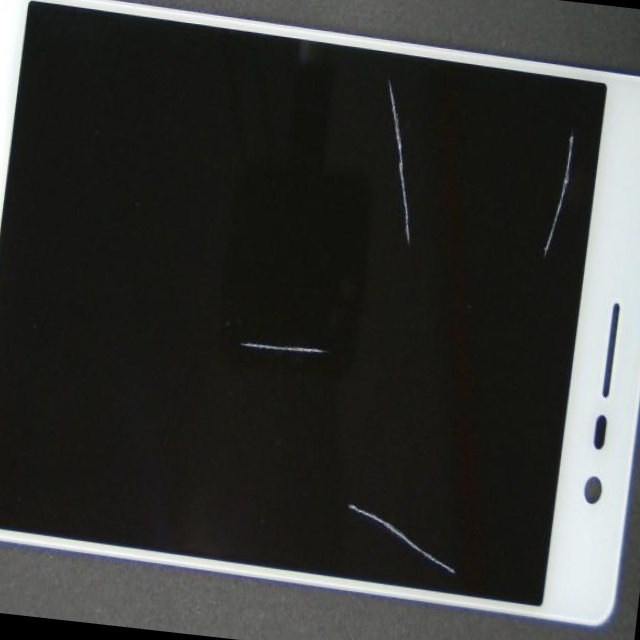scratch: (117, 84, 640, 410), (152, 151, 519, 533), (236, 302, 640, 640), (255, 0, 640, 264)
